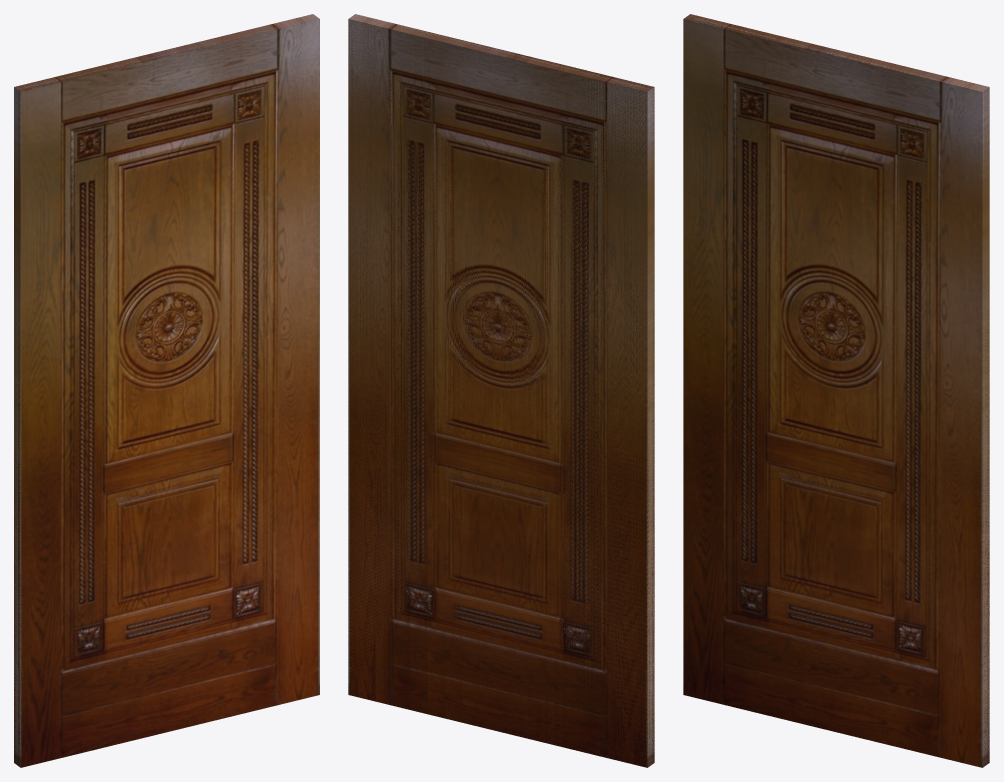
File: porte_classiche_1.fbx
3 views of the same model, side by side, from view 1: azimuth 30°, elevation 25°; view 2: azimuth 150°, elevation 25°; view 3: azimuth 330°, elevation 25° (orthographic).
Parts seen in each view (by area): view 1: Group1; view 2: Group1; view 3: Group1.
Part boxes in pixels (left/top/right/bottom): Group1: left=14, top=14, right=319, bottom=767; Group1: left=348, top=14, right=654, bottom=767; Group1: left=683, top=14, right=989, bottom=767.
Bounding box in the file's own units: 92.81 × 200 × 3.68.
